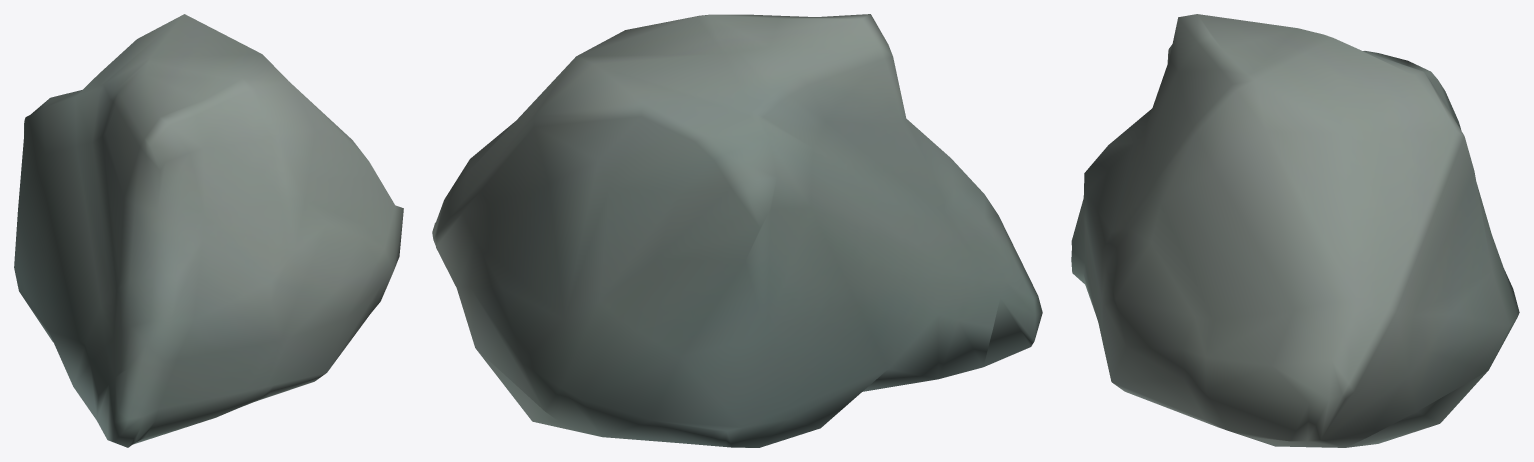
File: Rock06.fbx
3 renders of one model, left to right at view 1: azimuth 30°, elevation 25°; view 2: azimuth 150°, elevation 25°; view 3: azimuth 270°, elevation 25°, orthographic. The views are drawn at different scales.
Parts seen in each view (by area): view 1: Rock06; view 2: Rock06; view 3: Rock06.
Part boxes in pixels (x1,y1,x2,y2): Rock06: [14, 14, 403, 447]; Rock06: [432, 14, 1042, 447]; Rock06: [1071, 14, 1519, 447].
Size of the model in its own units: 494 by 361 by 435.
